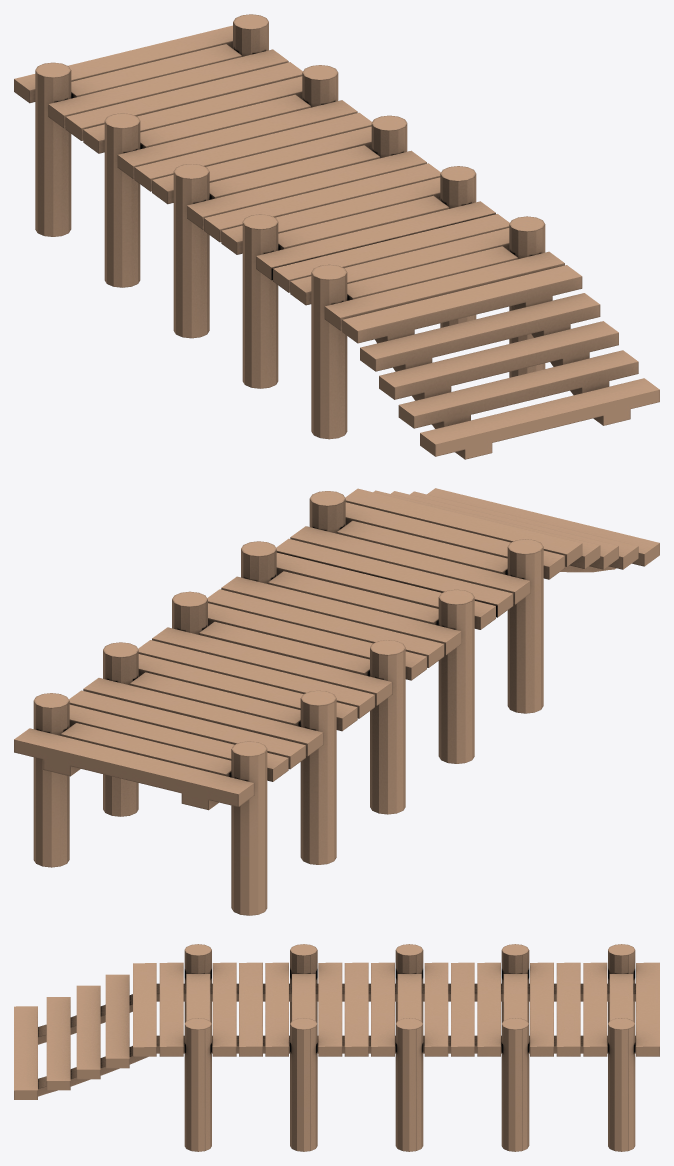
File: pier_final_build.fbx
The picture shows the model from 3 angles, top to bottom: view 1: azimuth 30°, elevation 25°; view 2: azimuth 150°, elevation 25°; view 3: azimuth 270°, elevation 25°; orthographic projection. The views are drawn at different scales.
Visible parts, largest first — view 1: pier; view 2: pier; view 3: pier.
Part boxes in pixels (x1=…): pier: x1=14, y1=14, x2=659, y2=459; pier: x1=14, y1=488, x2=659, y2=915; pier: x1=14, y1=944, x2=659, y2=1151.
Bounding box in the file's own units: 8.48 × 5.64 × 27.03.
Materials: 1 (1 with a texture image).
